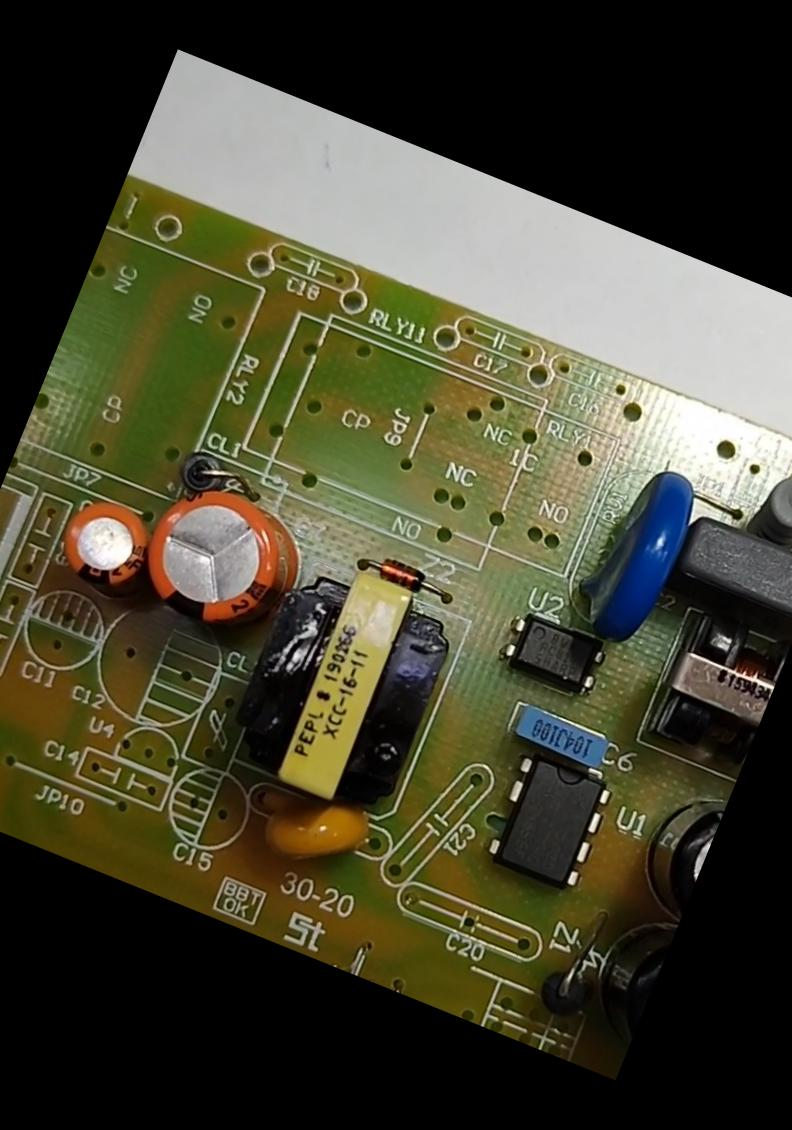Cap1: (128, 469, 297, 638)
Cap2: (56, 494, 152, 593)
Cap3: (627, 783, 725, 917)
Cap4: (574, 910, 674, 1054)
MOSFET: (482, 750, 607, 888)
Mov: (572, 457, 702, 640)
Resistor: (748, 455, 791, 550)
Transformer: (226, 550, 461, 820), (649, 610, 789, 768)
